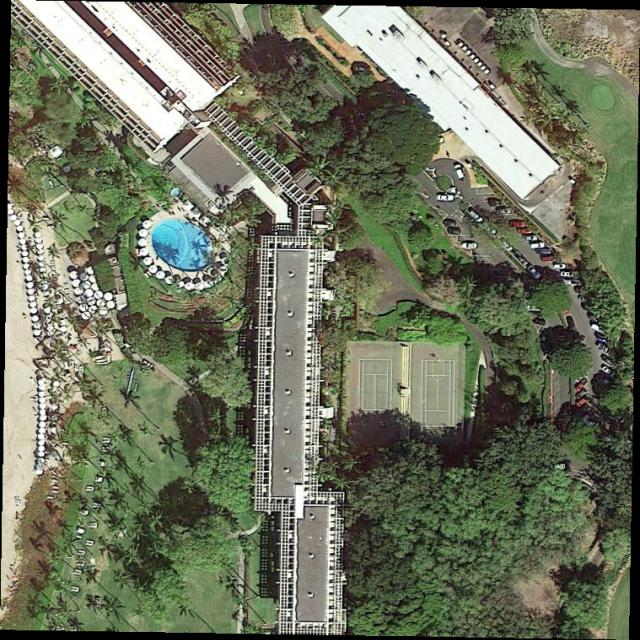small-vehicle: (590, 322, 613, 338), (466, 208, 486, 225), (480, 220, 498, 238), (525, 263, 544, 279), (595, 342, 615, 357), (513, 250, 530, 267), (497, 236, 514, 252), (600, 364, 618, 379), (573, 387, 591, 402), (573, 377, 589, 393), (586, 310, 604, 323), (454, 164, 467, 182), (575, 395, 591, 409), (565, 315, 578, 332), (600, 354, 616, 367), (487, 198, 507, 208), (530, 317, 548, 328), (529, 310, 547, 320), (496, 206, 515, 215), (443, 220, 459, 230), (578, 294, 597, 302), (581, 302, 600, 310), (460, 243, 479, 251), (565, 279, 586, 286), (437, 194, 454, 202), (574, 286, 593, 293), (551, 463, 567, 471), (519, 227, 535, 235), (523, 235, 539, 243), (530, 242, 546, 250), (510, 221, 526, 228), (560, 271, 576, 278), (536, 248, 551, 255), (448, 227, 461, 235), (541, 255, 554, 263), (553, 263, 567, 270)
storage-tank: (137, 228, 148, 238), (165, 275, 175, 286), (143, 220, 152, 230), (140, 247, 149, 257), (144, 256, 153, 266), (148, 265, 158, 274), (175, 281, 185, 290), (82, 312, 92, 321), (98, 307, 108, 316), (78, 304, 89, 312), (185, 282, 194, 291), (196, 282, 205, 291), (88, 266, 97, 275), (70, 271, 79, 280), (89, 275, 99, 283), (138, 239, 148, 247), (94, 291, 104, 299), (74, 287, 84, 295), (84, 290, 94, 298), (96, 299, 106, 307), (156, 271, 165, 279), (33, 330, 42, 338), (73, 280, 82, 288), (78, 296, 86, 305), (88, 297, 96, 306), (89, 306, 98, 314), (34, 322, 42, 330), (30, 302, 39, 309), (36, 255, 45, 262), (80, 274, 89, 281), (82, 282, 91, 289), (26, 289, 36, 295), (18, 232, 26, 239), (39, 409, 47, 416), (39, 421, 46, 429), (38, 433, 46, 440), (92, 284, 100, 291), (32, 315, 40, 322), (36, 243, 44, 250), (37, 248, 45, 255), (39, 267, 47, 274), (46, 314, 53, 322), (37, 440, 46, 446), (11, 215, 18, 222), (23, 263, 30, 270), (38, 457, 45, 464), (35, 232, 42, 239), (42, 283, 49, 290), (7, 203, 13, 211), (27, 283, 35, 289), (30, 308, 38, 314), (39, 397, 47, 403), (35, 238, 43, 244), (45, 306, 51, 314), (35, 470, 44, 475), (21, 252, 30, 257), (24, 271, 33, 276), (14, 221, 21, 227), (17, 226, 24, 232), (19, 239, 26, 245), (23, 257, 30, 263), (29, 296, 36, 302), (39, 391, 46, 397), (40, 403, 47, 409), (40, 415, 47, 421), (39, 428, 46, 434), (21, 246, 29, 251), (39, 379, 45, 385), (8, 210, 15, 215), (26, 277, 33, 282), (37, 464, 44, 469), (40, 386, 47, 391), (39, 447, 46, 452), (39, 452, 46, 457), (39, 262, 46, 267)
